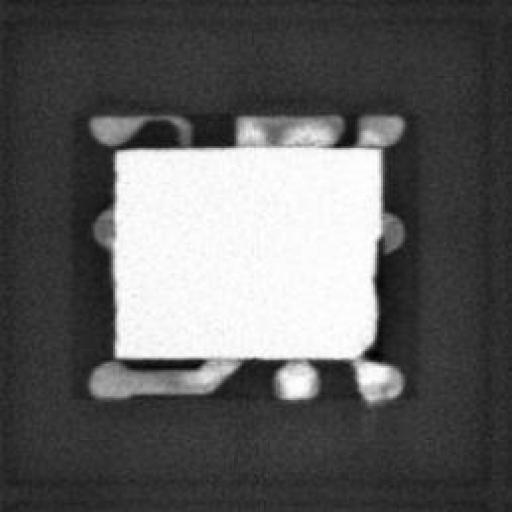DIE_BROKEN: (355, 233, 383, 364)
